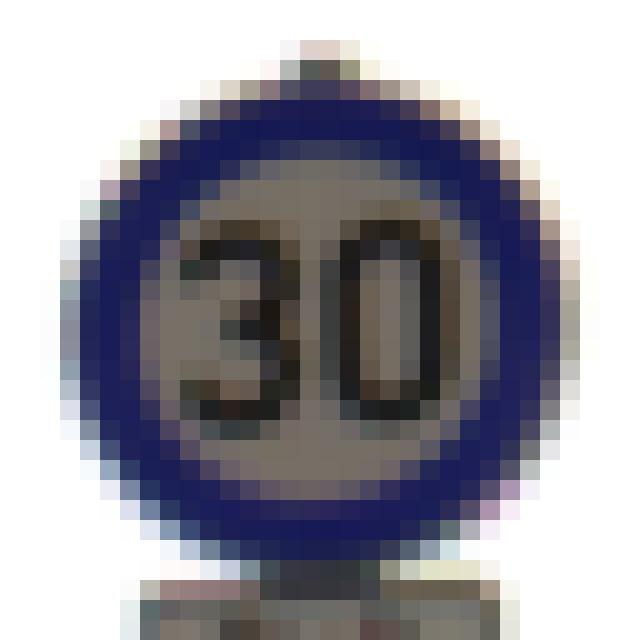SPEED LIMIT 30: (104, 138, 536, 562)
